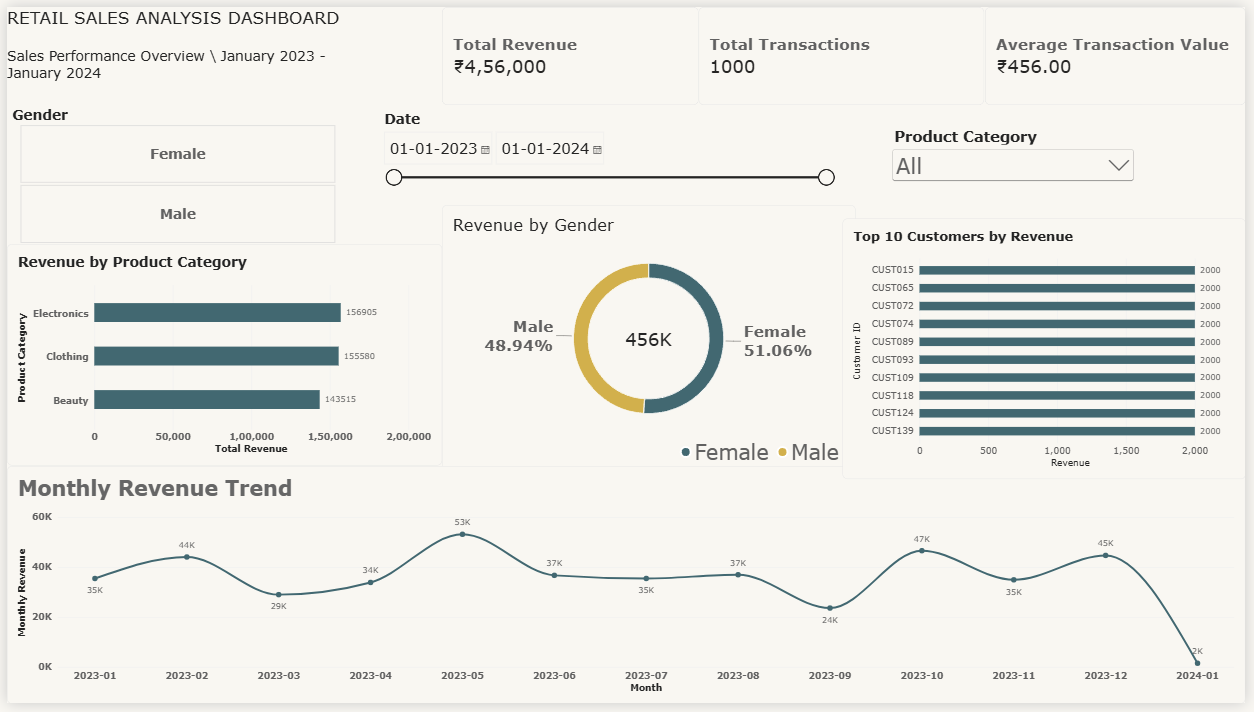

This screenshot's page, from the dashboard's own definition file:
{"tool":"powerbi","page":{"name":"Page 1","canvas":[1920,1080],"ordinal":0},"visuals":[{"type":"cardVisual","fields":{"Data":["retail_sales_cleaned.Total Revenue"]},"box":[674.7,0,398.1,153],"z":0},{"type":"cardVisual","fields":{"Data":["retail_sales_cleaned.Total Transactions"]},"box":[1072.8,0,443.3,153],"z":1},{"type":"cardVisual","fields":{"Data":["retail_sales_cleaned.Average Transaction Value"]},"box":[1516.1,0,404,153],"z":2},{"type":"clusteredBarChart","title":"Revenue by Product Category","fields":{"Category":["retail_sales_cleaned.Product Category"],"Y":["Sum(retail_sales_cleaned.Total Amount)"]},"box":[0,366.8,674.7,343.2],"z":3},{"type":"donutChart","title":"Revenue by Gender","fields":{"Category":["retail_sales_cleaned.Gender"],"Y":["Sum(retail_sales_cleaned.Total Amount)"]},"box":[674.7,307.9,641.3,423.6],"z":4},{"type":"lineChart","title":"Monthly Revenue Trend","fields":{"Category":["retail_sales_cleaned.YearMonth"],"Y":["Sum(retail_sales_cleaned.Total Amount)"]},"box":[0,712,1920.1,368.7],"z":5},{"type":"clusteredBarChart","title":"Top 10 Customers by Revenue","fields":{"Category":["retail_sales_cleaned.Customer ID"],"Y":["Sum(retail_sales_cleaned.Total Amount)"]},"box":[1294.5,327.5,625.7,404],"z":6},{"type":"slicer","fields":{"Values":["retail_sales_cleaned.Date"]},"box":[576.6,160.8,710,147.1],"z":7},{"type":"slicer","fields":{"Values":["retail_sales_cleaned.Gender"]},"box":[0,153,527.6,213.8],"z":8},{"type":"slicer","title":"Product Category","fields":{"Values":["retail_sales_cleaned.Product Category"]},"box":[1367,186.3,384.4,151],"z":9},{"type":"textbox","box":[0,0,1920.1,62.8],"z":10},{"type":"textbox","box":[0,62.8,500.5,53.9],"z":11}]}

Visuals, with their boxes in screenshot pixels (x1, y1, x2, y2), scaled from the page's 1920x1080 canvas onto the 1254x712 screenshot:
cardVisual - retail_sales_cleaned.Total Revenue: 441:0:701:101
cardVisual - retail_sales_cleaned.Total Transactions: 701:0:990:101
cardVisual - retail_sales_cleaned.Average Transaction Value: 990:0:1253:101
"Revenue by Product Category" clusteredBarChart: 0:242:441:468
"Revenue by Gender" donutChart: 441:203:860:482
"Monthly Revenue Trend" lineChart: 0:469:1253:711
"Top 10 Customers by Revenue" clusteredBarChart: 845:216:1253:482
slicer - retail_sales_cleaned.Date: 377:106:840:203
slicer - retail_sales_cleaned.Gender: 0:101:345:242
"Product Category" slicer: 893:123:1144:222
textbox: 0:0:1253:41
textbox: 0:41:327:77
